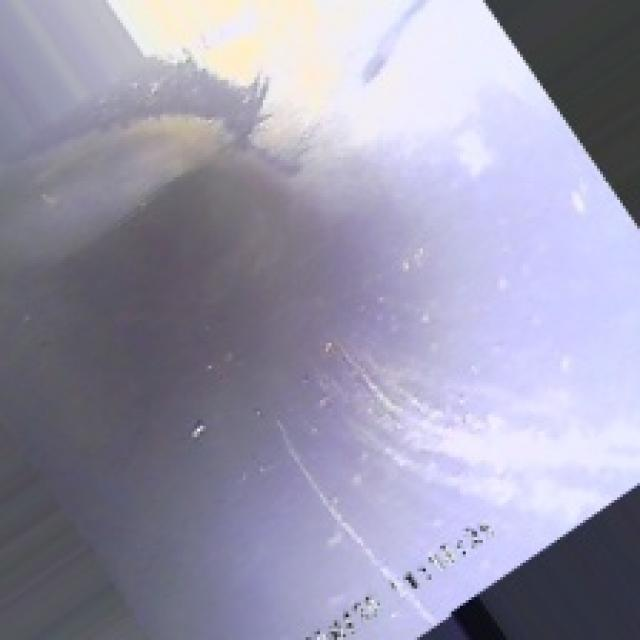shape_deformation: (34, 63, 446, 488)
